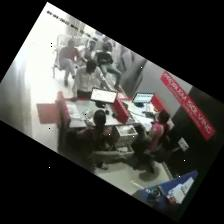person: (69, 59, 111, 102), (71, 110, 110, 156), (140, 111, 169, 161), (95, 43, 121, 89), (145, 111, 169, 153), (59, 40, 79, 86), (82, 41, 95, 60)
